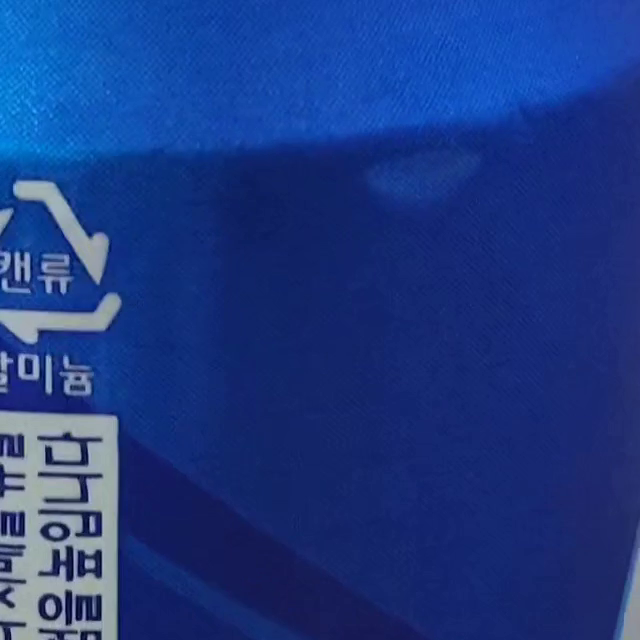Can: (0, 180, 120, 343)
